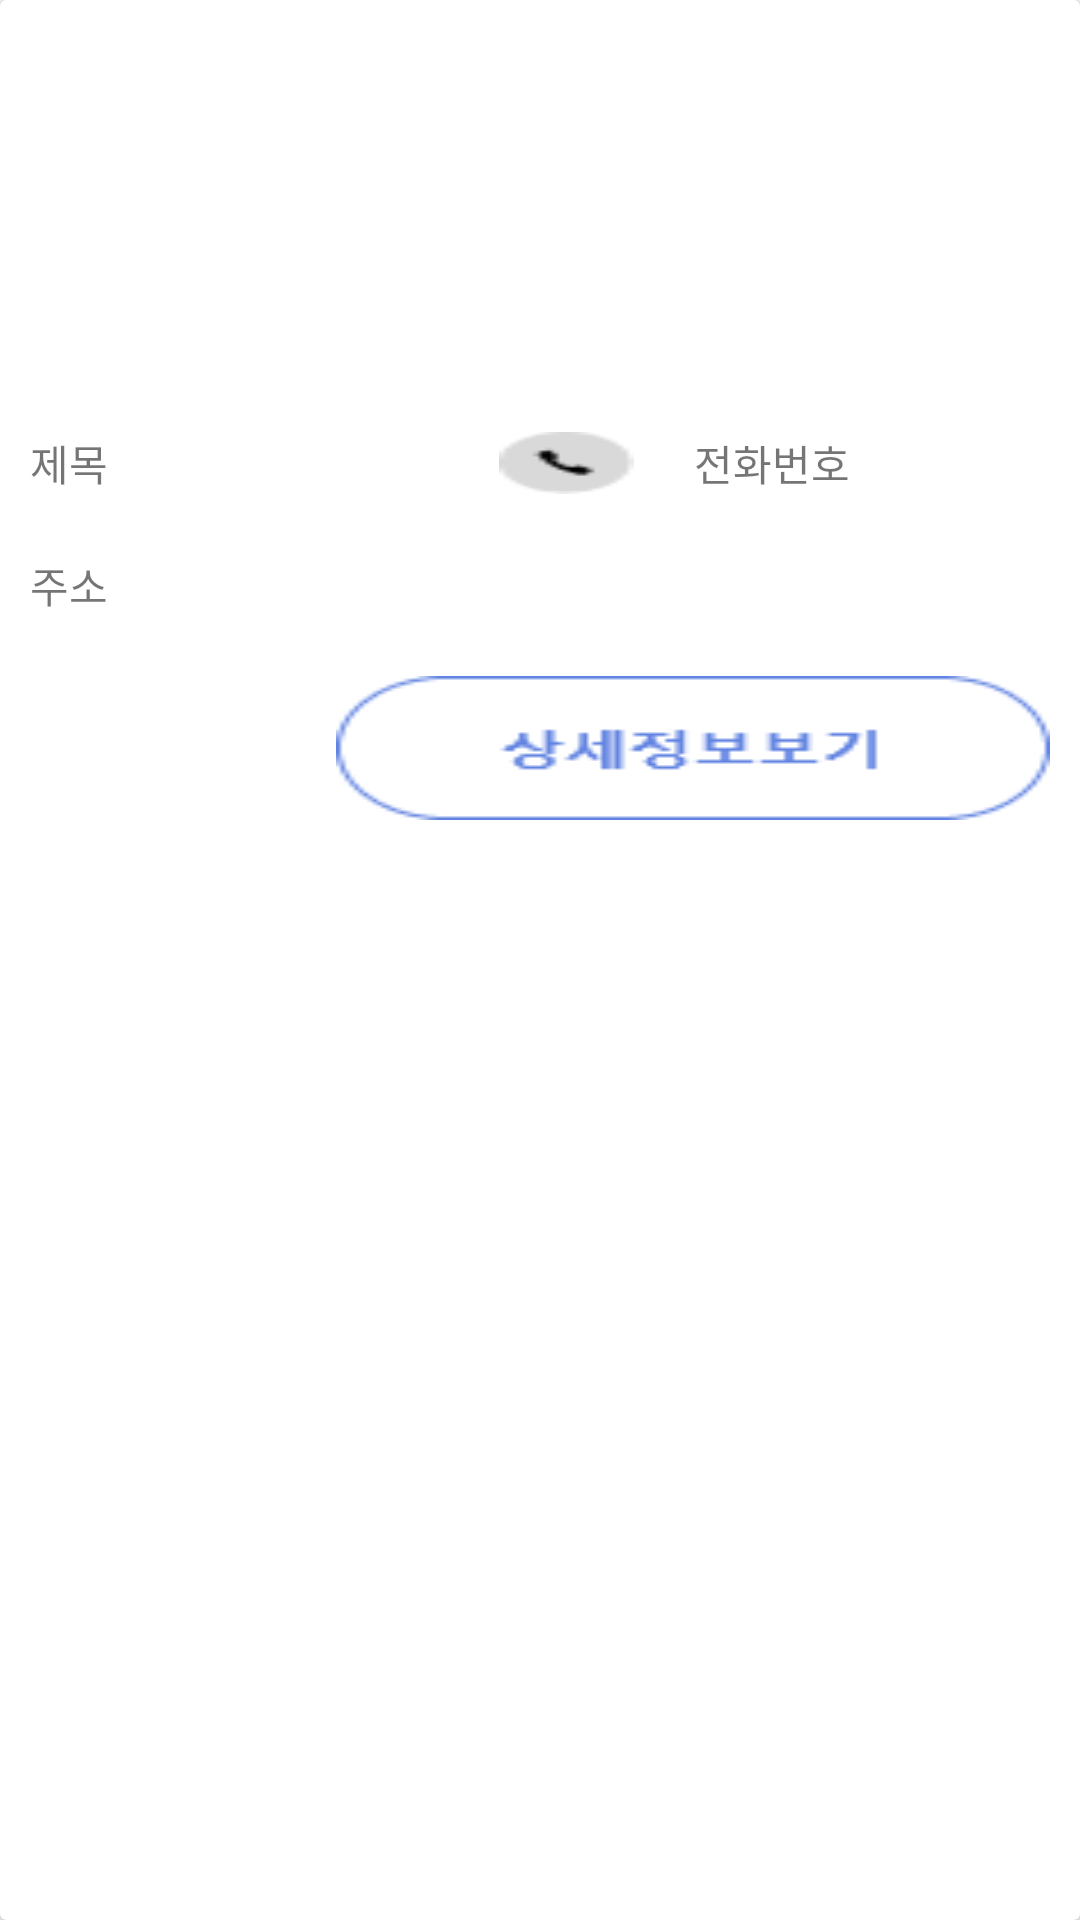

Icons on this 1080*1920 Android screen, each with the point to tap as [x,y]:
phone: [564,462]
